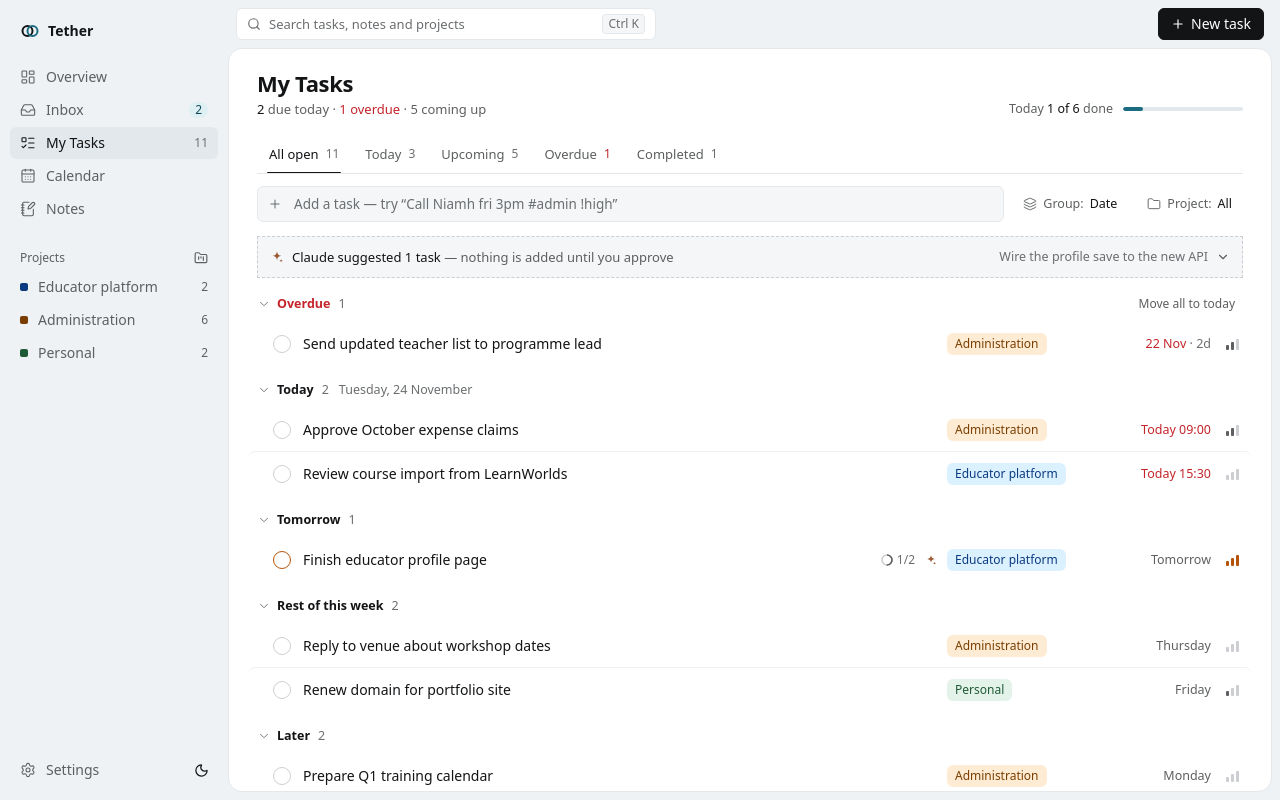
Scenario: My Tasks › Move all to today reschedules every overdue task
What coordinates should you click on to do the following:
click the button "Move all to today"
I would click on:
 (1187, 304)
Its box is top-left (1130, 291), bottom-right (1243, 317).
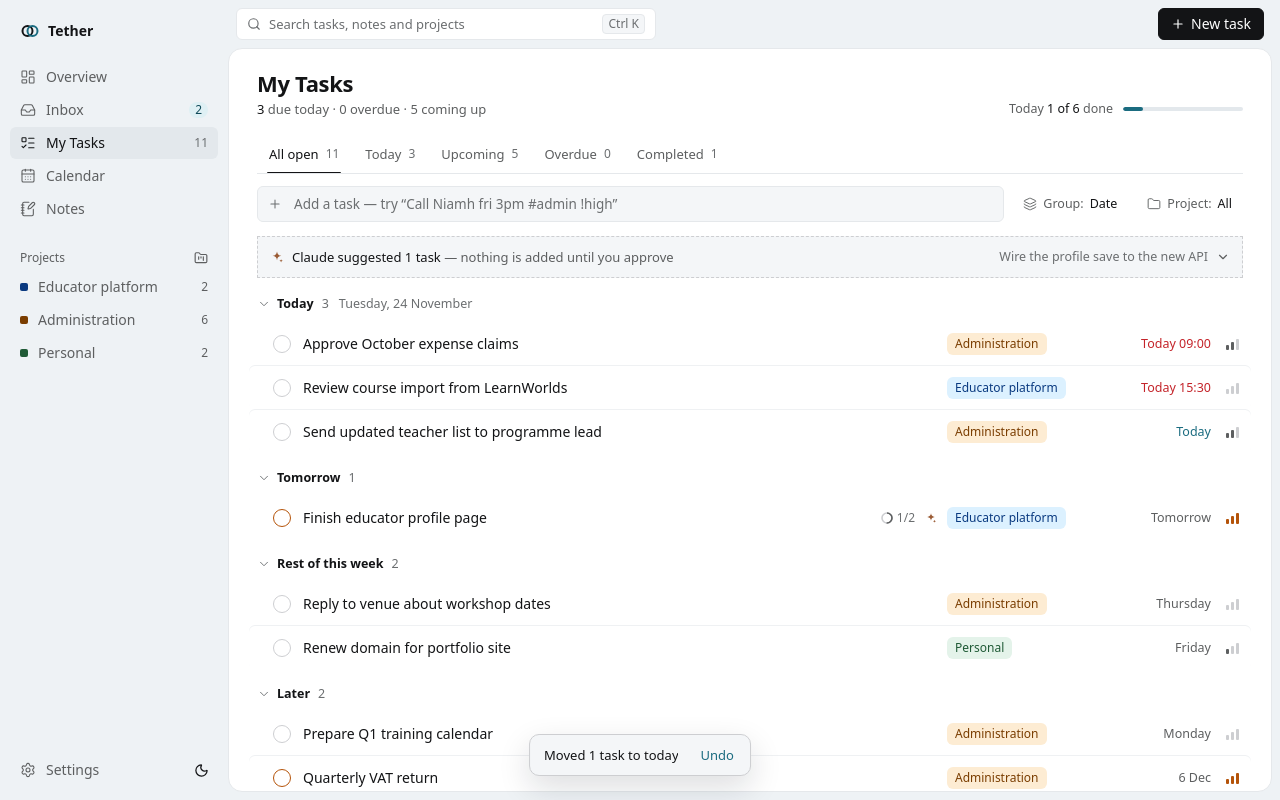
Expected: the text "Moved 1 task to today" is shown, top-left (544, 745), bottom-right (679, 765)
Expected: the tab "Overdue 0" is shown, top-left (532, 135), bottom-right (623, 173)
